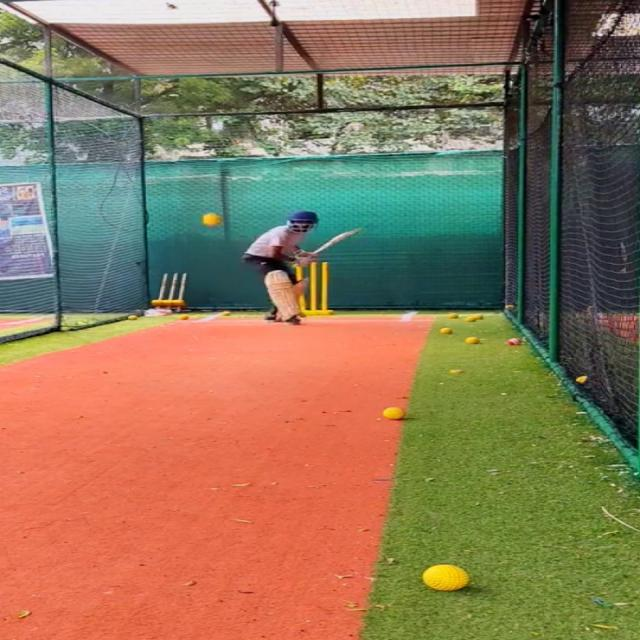ball: (418, 562, 476, 593), (381, 404, 412, 422), (204, 212, 224, 227), (465, 335, 481, 345), (510, 337, 526, 346), (440, 326, 456, 334), (465, 314, 481, 322), (126, 313, 141, 321), (446, 313, 460, 320), (180, 313, 191, 320)
stump: (297, 259, 332, 313)
